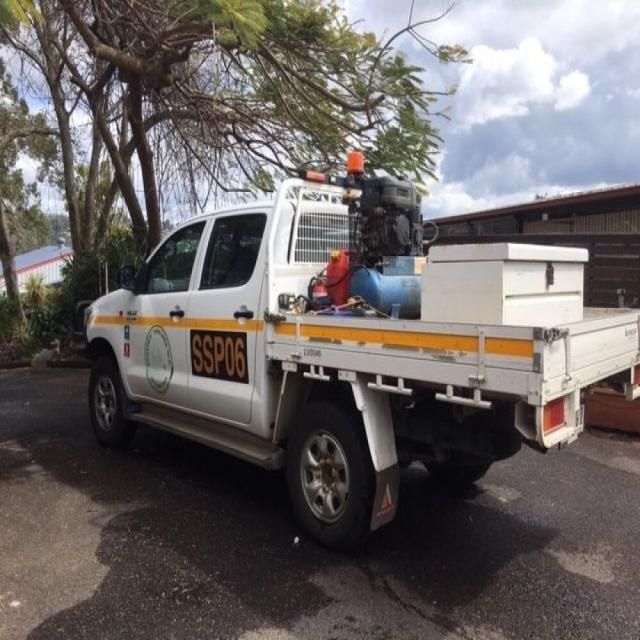light_vehicle: (68, 170, 640, 545)
